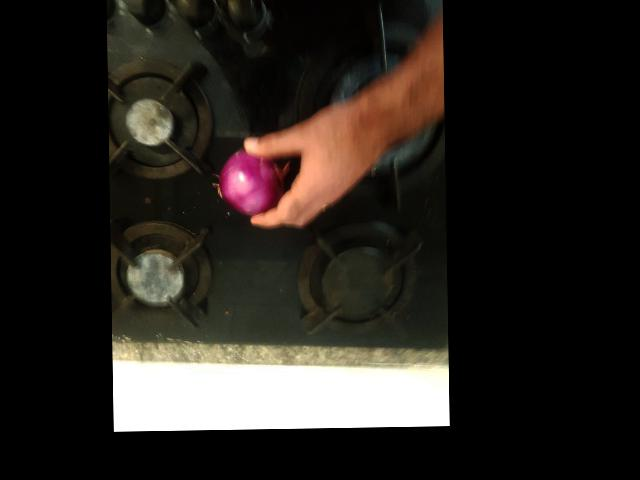onion: (164, 257, 236, 317)
